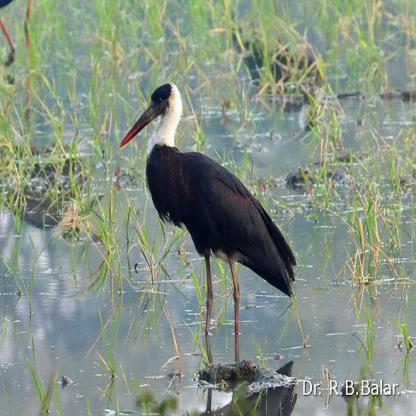Burung: (117, 80, 301, 395)
